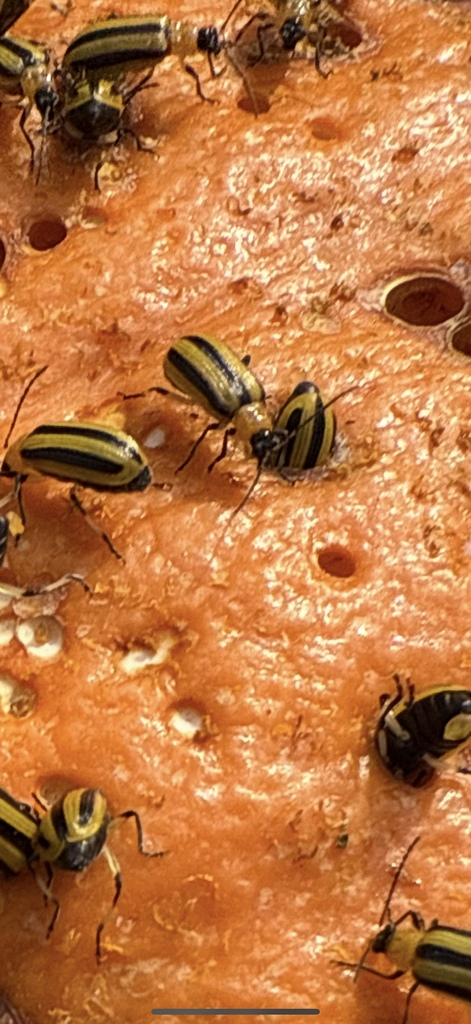potato_beetle: (90, 275, 401, 551), (0, 333, 180, 599), (308, 800, 471, 1024)
